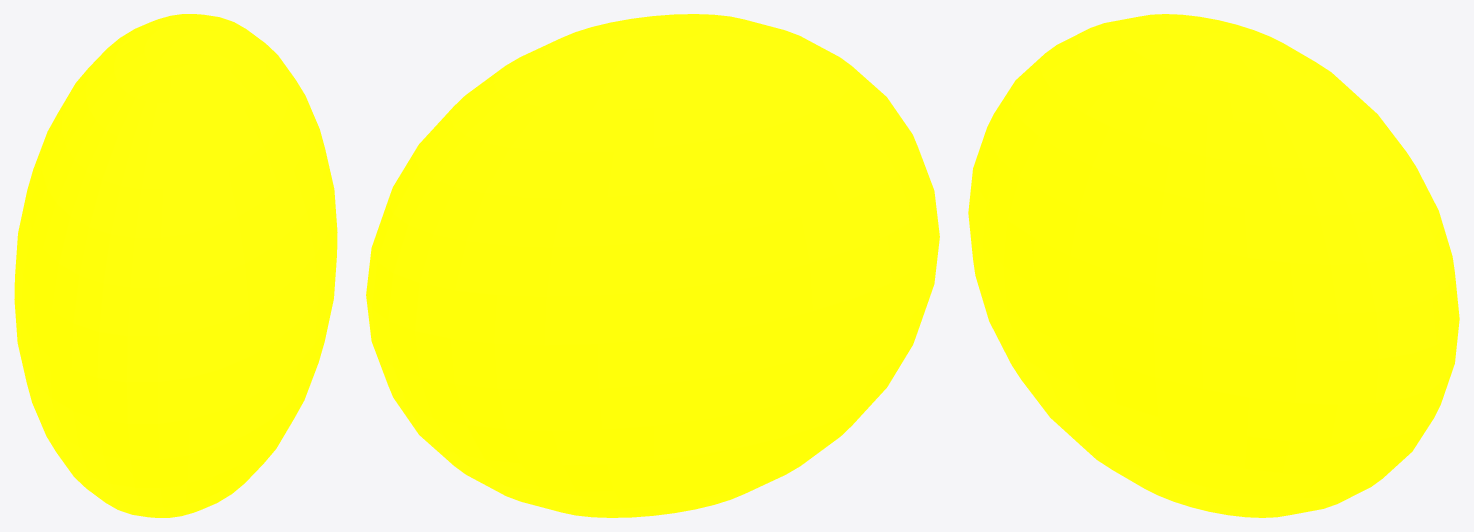
File: Main tree light.fbx
3 views of the same model, side by side, from view 1: azimuth 30°, elevation 25°; view 2: azimuth 150°, elevation 25°; view 3: azimuth 270°, elevation 25° (orthographic). The views are drawn at different scales.
Visible parts, largest first — view 1: Sphere.003; view 2: Sphere.003; view 3: Sphere.003.
Part boxes in pixels (x1=…): Sphere.003: x1=14, y1=14, x2=337, y2=517; Sphere.003: x1=366, y1=14, x2=939, y2=517; Sphere.003: x1=968, y1=14, x2=1459, y2=517.
Size of the model in its own units: 121 by 139 by 133.
